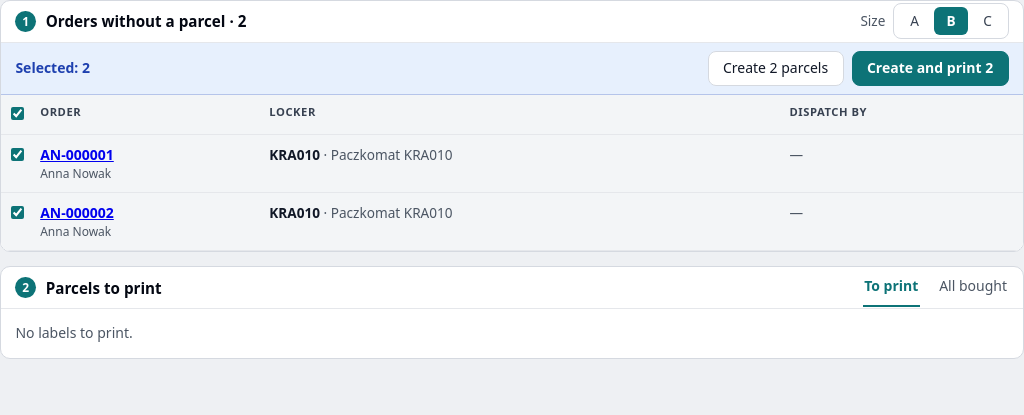
Test: InpostLabelsPanel › reports an order that was refused next to the ones that worked
The image size is (1024, 415).
Expected: the link "AN-000001" is shown, [40,145,114,164]
Click the button "Create 2 parcels": [776, 68] box [708,51,844,86]
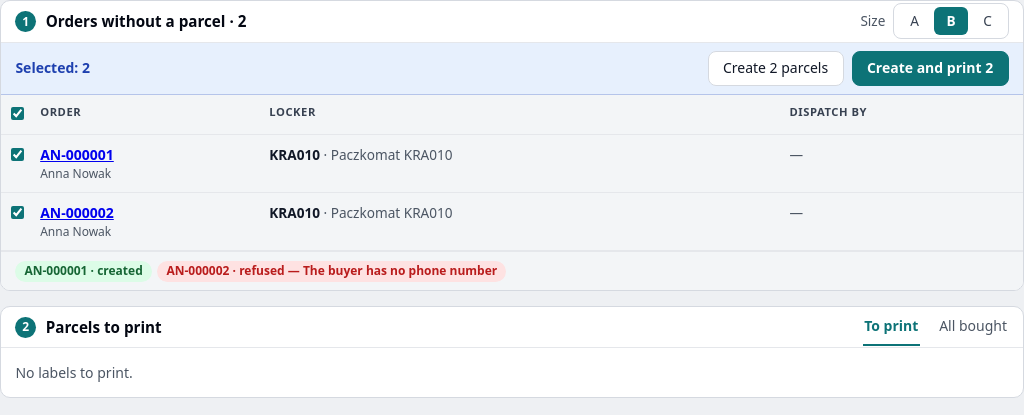
Now the list named "Result of creating the parcels" shows "The buyer has no phone number", box [303,262,497,279]
Now the list named "Result of creating the parcels" reads "AN-000001 · created AN-000002 · refused — The buyer has no phone number", box [1,251,1023,290]
